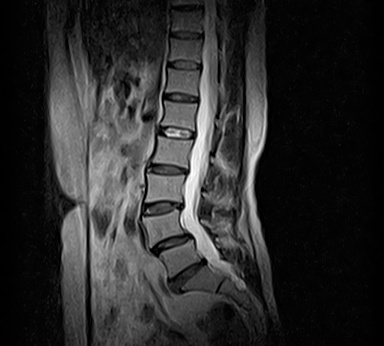L1,v2: (151, 97, 207, 131)
L2,v2: (145, 135, 204, 166)
L2-L3,v1: (150, 113, 203, 149)
L3,v2: (145, 134, 198, 170)
L3-L4,v2: (135, 188, 189, 225), (144, 153, 195, 185)
L4,v2: (136, 206, 191, 244), (138, 169, 192, 204)
L4-L5,v2: (136, 226, 198, 259)
L5,v2: (144, 236, 209, 276)
L5-S1,v2: (157, 256, 214, 290)
T12-L1,v2: (148, 78, 216, 114)
